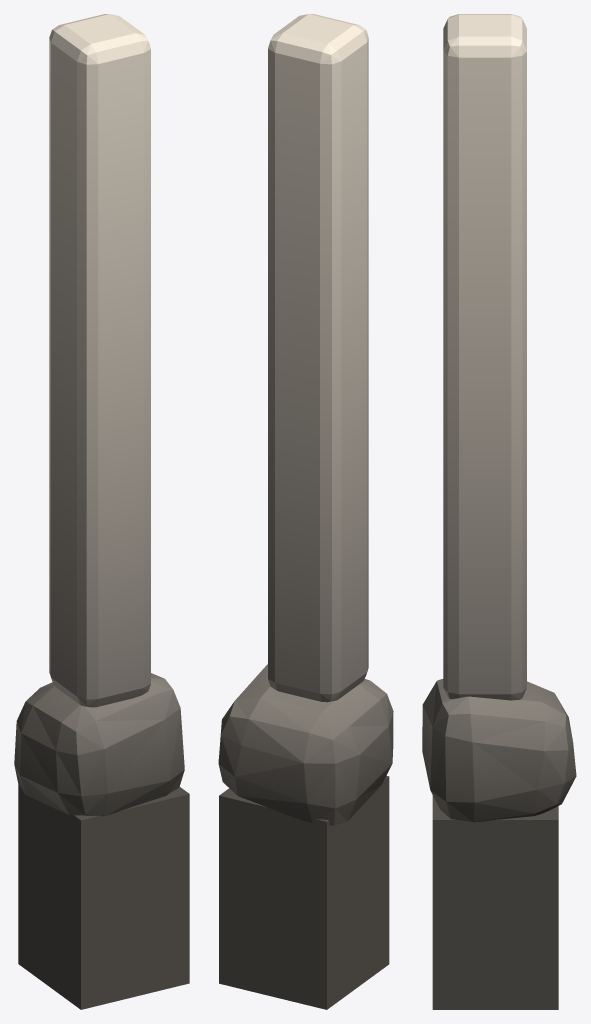
The model's file is SM_VK_InnerCorner_Wattle.fbx.
3 renders of one model, left to right at view 1: azimuth 30°, elevation 25°; view 2: azimuth 150°, elevation 25°; view 3: azimuth 270°, elevation 25°, orthographic.
Visible parts, largest first — view 1: SM_VK_InnerCorner_Wattle.001; view 2: SM_VK_InnerCorner_Wattle.001; view 3: SM_VK_InnerCorner_Wattle.001.
Part boxes in pixels (left/top/right/bottom): SM_VK_InnerCorner_Wattle.001: left=14, top=14, right=189, bottom=1009; SM_VK_InnerCorner_Wattle.001: left=218, top=14, right=393, bottom=1009; SM_VK_InnerCorner_Wattle.001: left=422, top=14, right=576, bottom=1009.
Size of the model in its own units: 0.4483 by 3.01 by 0.4409.
